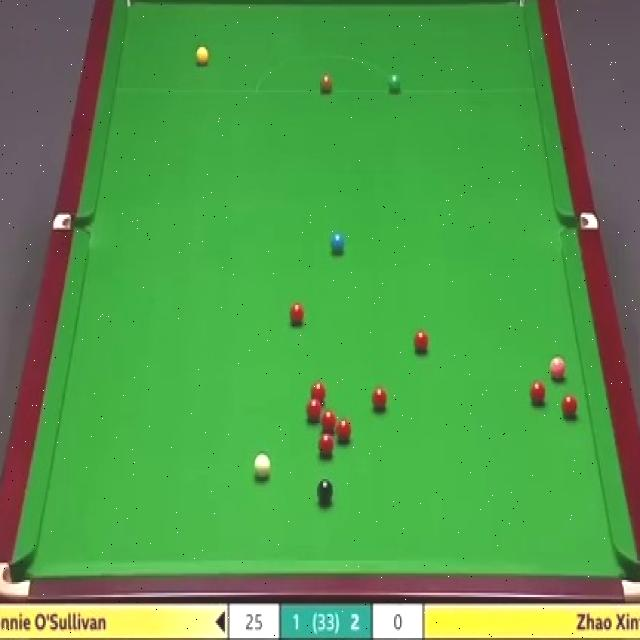black-ball: (316, 479, 334, 506)
blue-ball: (330, 231, 346, 254)
brown-ball: (319, 72, 333, 94)
green-ball: (386, 74, 403, 97)
pink-ball: (549, 354, 566, 382)
red-ball: (530, 381, 548, 406), (371, 386, 388, 412), (288, 303, 306, 327), (336, 419, 352, 445), (562, 394, 579, 418), (413, 330, 428, 355), (319, 434, 333, 458), (309, 382, 327, 399), (321, 413, 338, 431), (306, 397, 322, 415)
white-ball: (253, 455, 270, 481)
yellow-ball: (196, 46, 210, 68)
